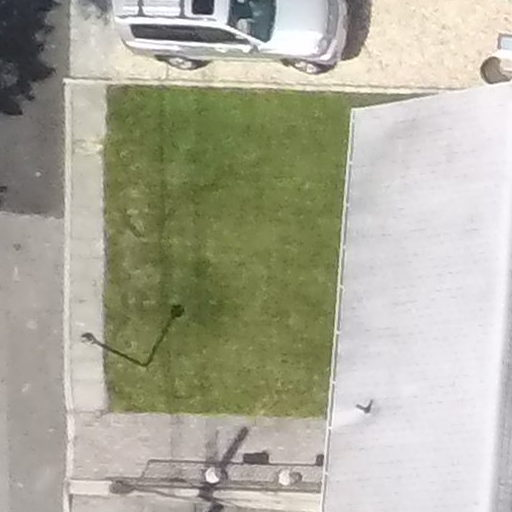car: (99, 1, 378, 75)
